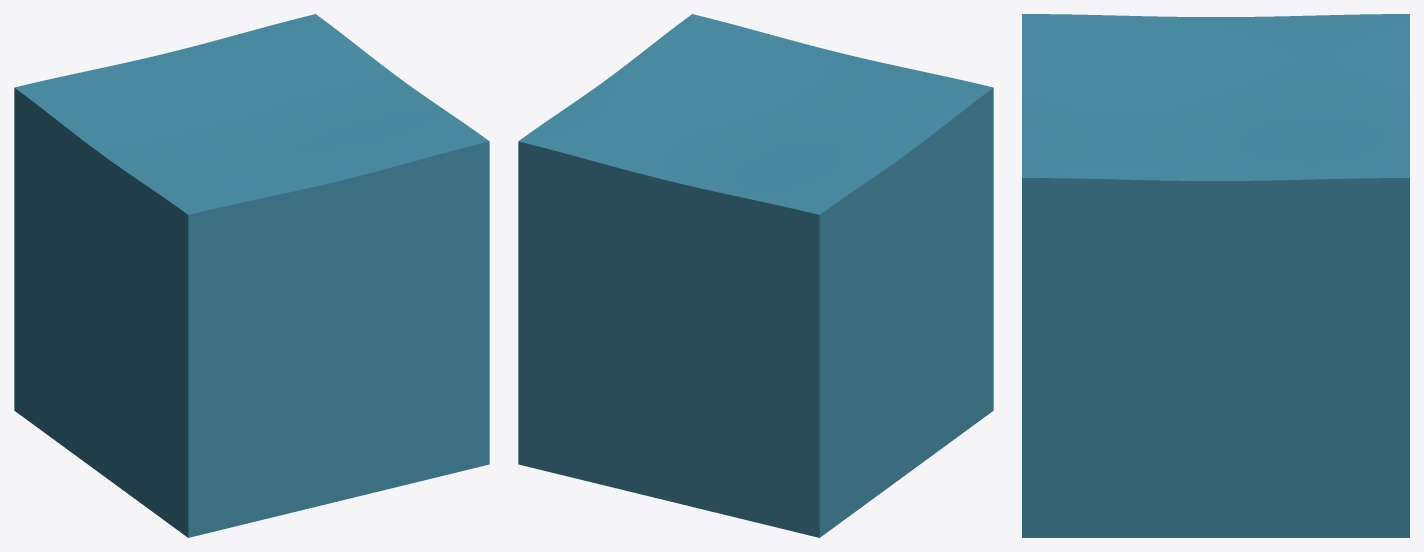
File: slpool_wave32.glb
3 views of the same model, side by side, from view 1: azimuth 30°, elevation 25°; view 2: azimuth 150°, elevation 25°; view 3: azimuth 270°, elevation 25° (orthographic). The views are drawn at different scales.
Parts seen in each view (by area): view 1: poolWater; view 2: poolWater; view 3: poolWater.
Boxes of the visible parts, left/top/right/bottom form: poolWater: left=14, top=14, right=489, bottom=537; poolWater: left=518, top=14, right=993, bottom=537; poolWater: left=1022, top=14, right=1409, bottom=537.
Size of the model in its own units: 2 by 2.05 by 2.
